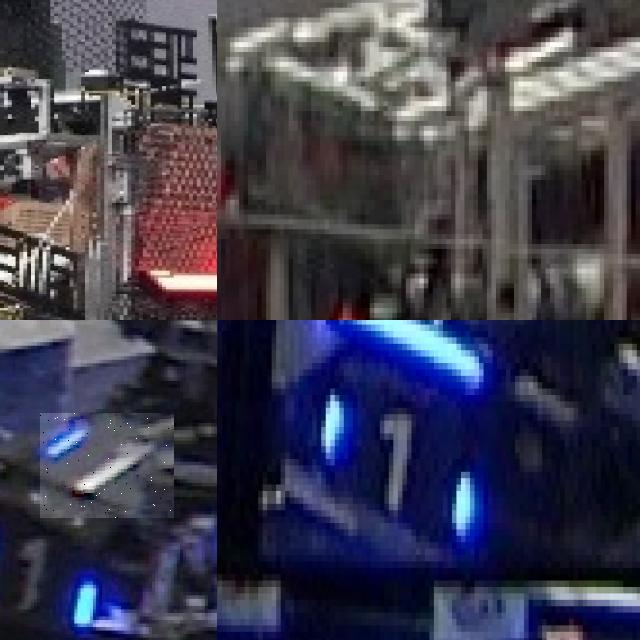B1: (307, 382, 483, 555), (40, 413, 174, 518), (0, 528, 99, 627)
